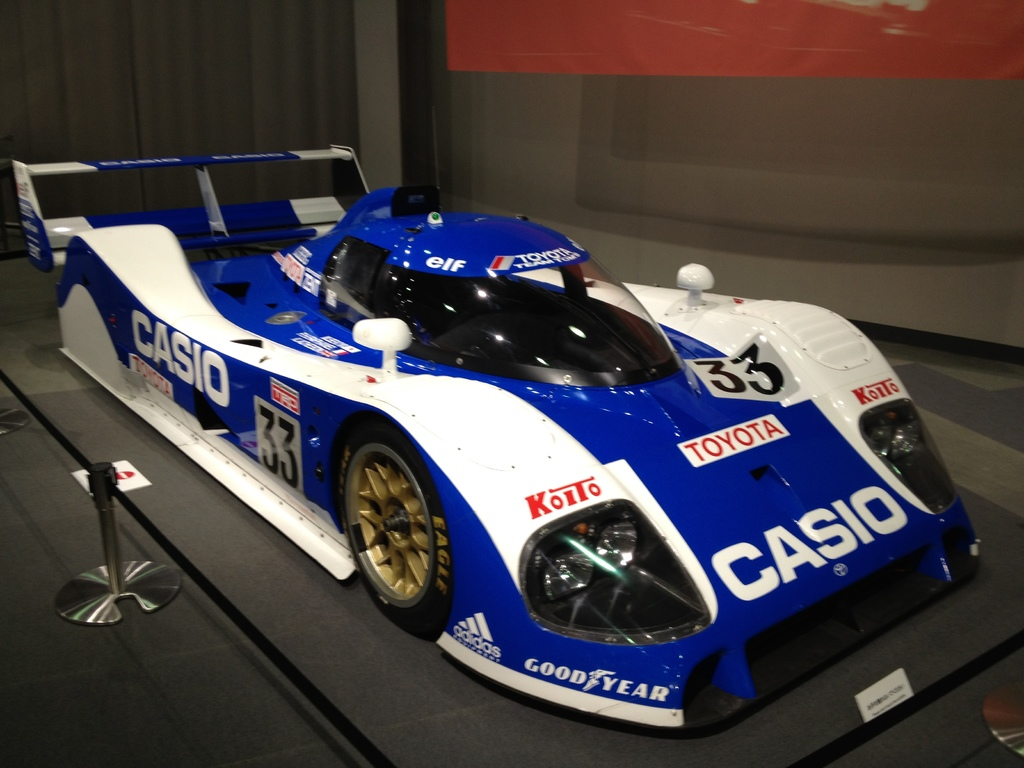Car: (10, 108, 981, 735)
